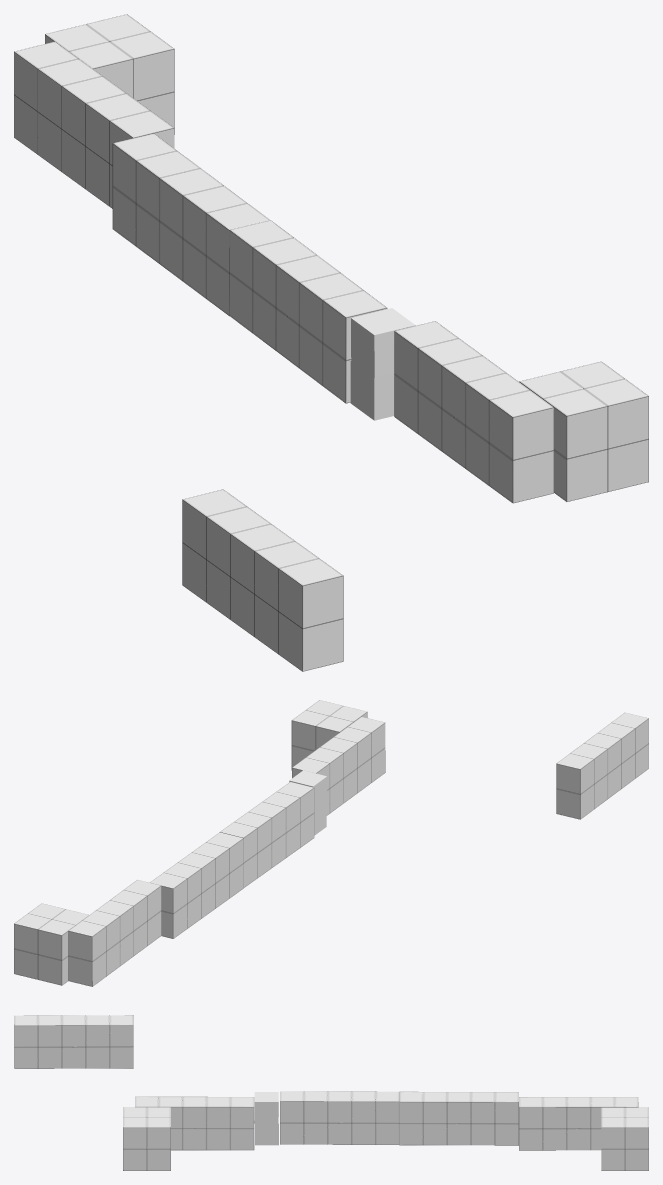
The picture shows the model from 3 angles, top to bottom: view 1: azimuth 30°, elevation 25°; view 2: azimuth 150°, elevation 25°; view 3: azimuth 270°, elevation 25°; orthographic projection. The views are drawn at different scales.
Parts seen in each view (by area): view 1: GridPlank_0:4, GridPlank_0:2, GridPlank_0:3, GridPlank_0, GridPlank_0:1, Plane/BasicEnvironment/StartCube-1, Plane/BasicEnvironment/StartCube-2, GridSmallCube_0:1, GridSmallCube_0; view 2: GridPlank_0:1, GridPlank_0:4, GridPlank_0, GridPlank_0:3, GridPlank_0:2, Plane/BasicEnvironment/StartCube-2, Plane/BasicEnvironment/StartCube-1, GridSmallCube_0:1; view 3: GridPlank_0, GridPlank_0:3, GridPlank_0:4, GridPlank_0:2, GridPlank_0:1, Plane/BasicEnvironment/StartCube-1, Plane/BasicEnvironment/StartCube-2, GridSmallCube_0:1, GridSmallCube_0.
Boxes of the visible parts, x1=… form: GridPlank_0:4: x1=182, y1=489, x2=343, y2=671; GridPlank_0:2: x1=394, y1=321, x2=553, y2=503; GridPlank_0:3: x1=229, y1=220, x2=387, y2=403; GridPlank_0: x1=112, y1=133, x2=269, y2=315; GridPlank_0:1: x1=14, y1=41, x2=174, y2=208; Plane/BasicEnvironment/StartCube-1: x1=519, y1=361, x2=648, y2=501; Plane/BasicEnvironment/StartCube-2: x1=45, y1=14, x2=174, y2=134; GridSmallCube_0:1: x1=351, y1=308, x2=415, y2=378; GridSmallCube_0: x1=350, y1=360, x2=394, y2=420; GridPlank_0:1: x1=68, y1=880, x2=161, y2=986; GridPlank_0:4: x1=556, y1=712, x2=648, y2=819; GridPlank_0: x1=150, y1=832, x2=243, y2=938; GridPlank_0:3: x1=220, y1=782, x2=314, y2=887; GridPlank_0:2: x1=292, y1=716, x2=385, y2=815; Plane/BasicEnvironment/StartCube-2: x1=14, y1=903, x2=88, y2=985; Plane/BasicEnvironment/StartCube-1: x1=291, y1=700, x2=367, y2=770; GridSmallCube_0:1: x1=289, y1=770, x2=327, y2=810; GridPlank_0: x1=399, y1=1091, x2=518, y2=1145; GridPlank_0:3: x1=280, y1=1091, x2=399, y2=1144; GridPlank_0:4: x1=14, y1=1015, x2=133, y2=1068; GridPlank_0:2: x1=135, y1=1096, x2=254, y2=1150; GridPlank_0:1: x1=519, y1=1097, x2=638, y2=1150; Plane/BasicEnvironment/StartCube-1: x1=123, y1=1107, x2=170, y2=1170; Plane/BasicEnvironment/StartCube-2: x1=601, y1=1107, x2=648, y2=1170; GridSmallCube_0:1: x1=254, y1=1092, x2=278, y2=1123; GridSmallCube_0: x1=255, y1=1114, x2=278, y2=1145.
Size of the model in its own units: 1.11 by 0.2015 by 2.66.
